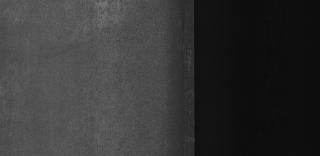silk spot: (81, 92, 131, 142), (80, 10, 128, 42), (84, 62, 130, 78)
